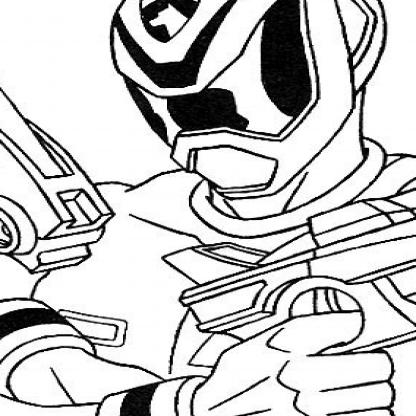gun: (150, 156, 414, 415), (0, 0, 120, 333)
